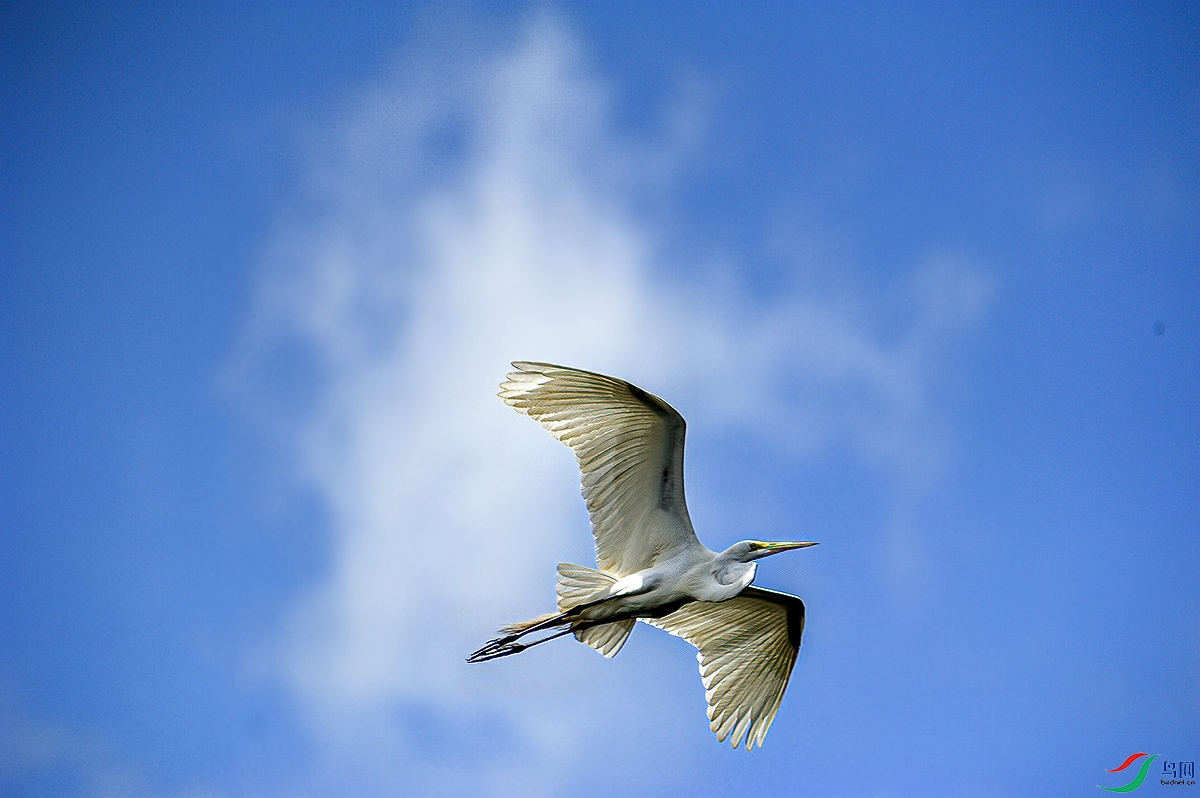bird: (427, 350, 814, 759)
